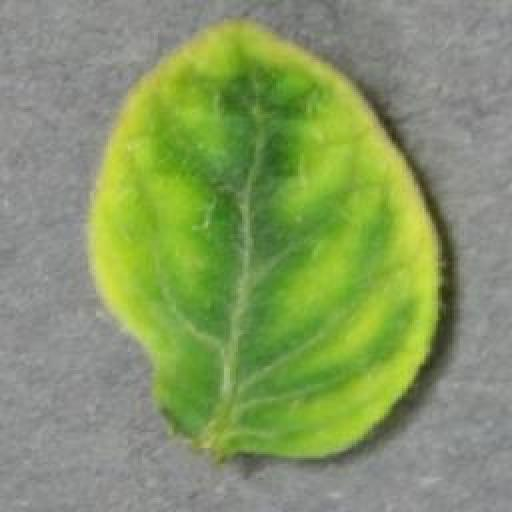Yellow Leaf Curl Virus: (89, 15, 448, 460)
